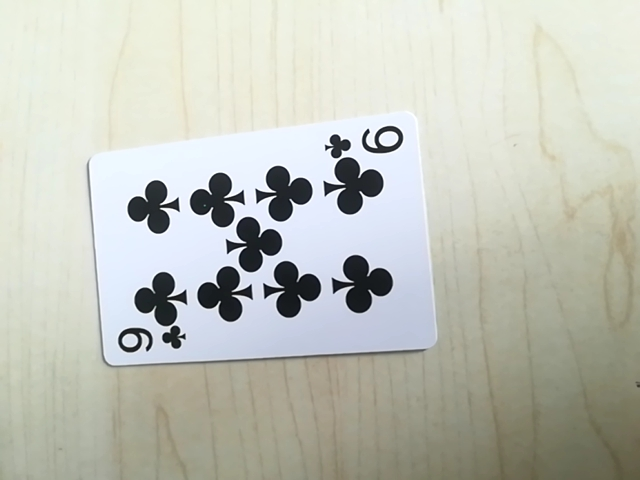mh 9: (109, 322, 190, 364), (323, 119, 408, 159)
